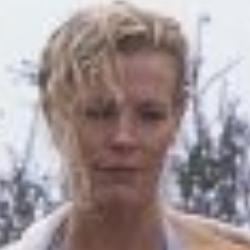face: (21, 1, 192, 209)
